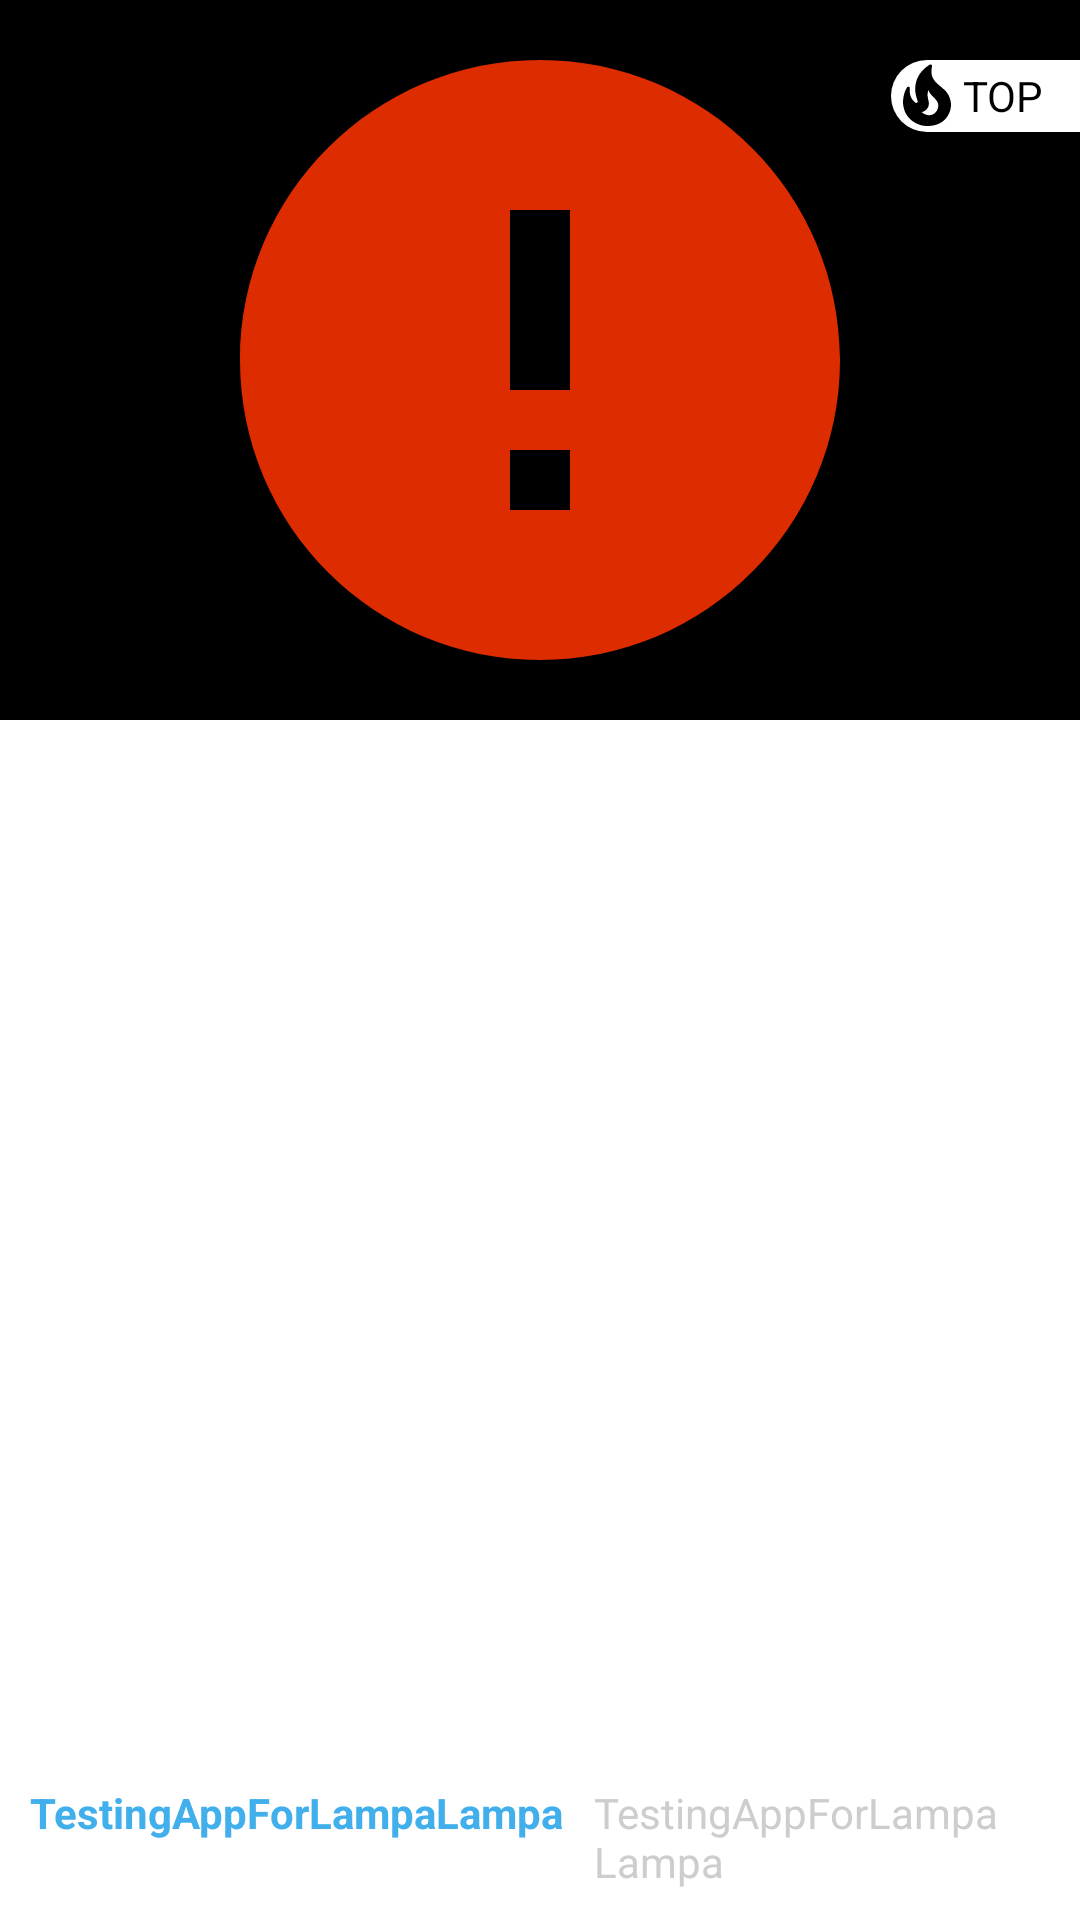

Screen size 1080px×1920px. Icon name, then its box in pixels as (x1,y1,x2,y2):
fire: (891,60,963,132)
